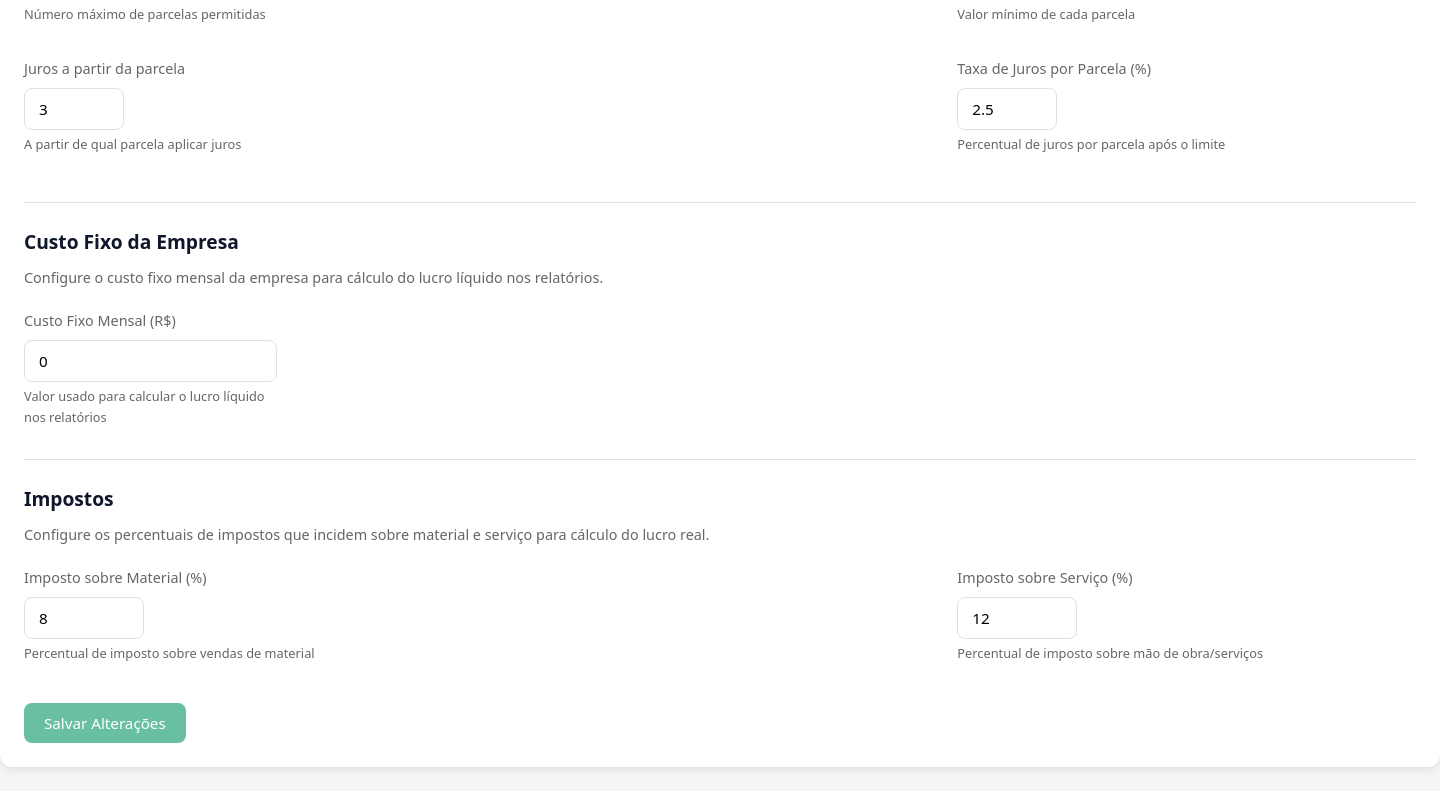
EmpresaTab › Configurações de Impostos › deve restaurar valores de impostos ao cancelar
The image size is (1440, 791).
(page scrolled)
Replace the text in the number field below "Imposto sobre Material (%)" with "20" at (84, 618), box [24, 597, 144, 639]
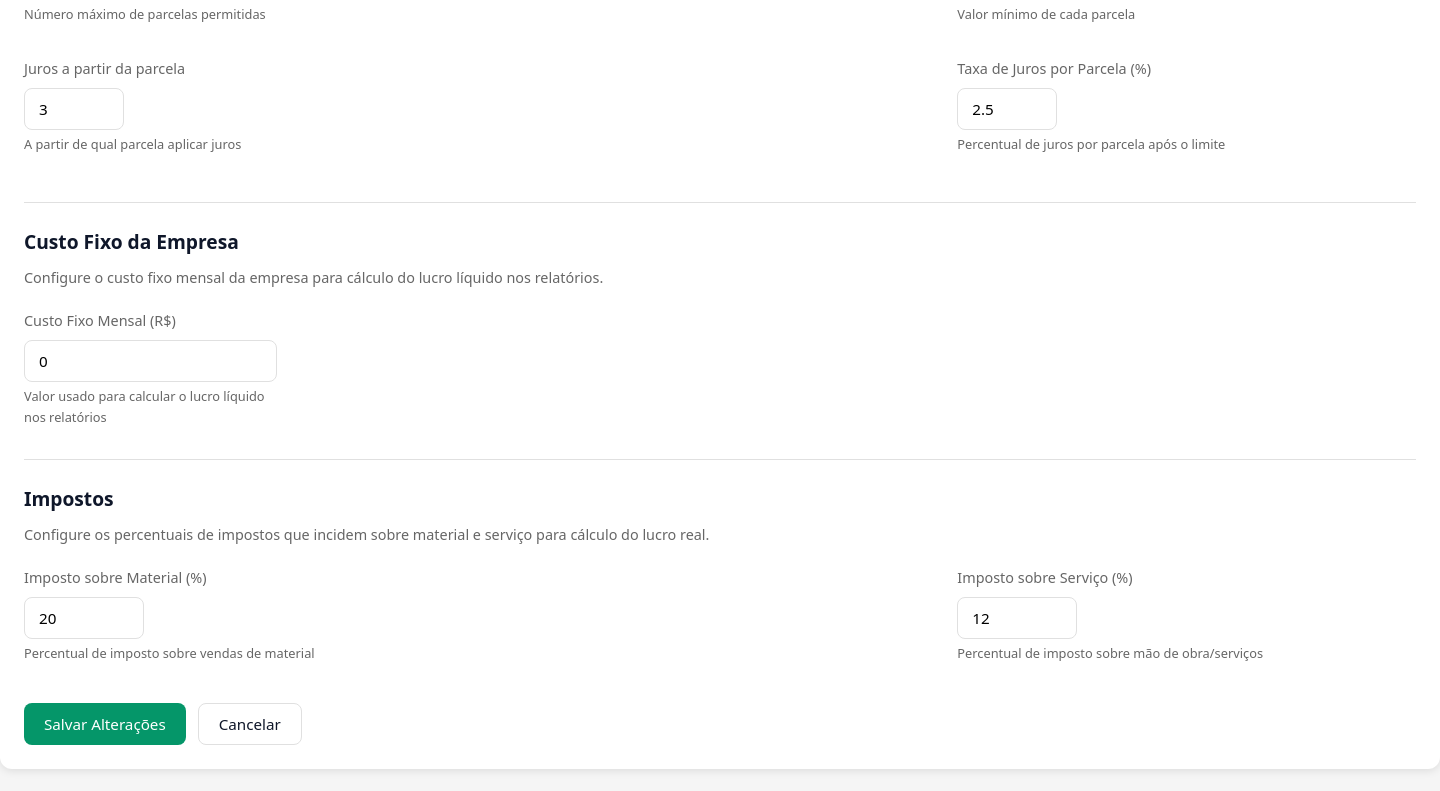
Click the button "Cancelar".
click(250, 724)  # box [198, 703, 302, 745]
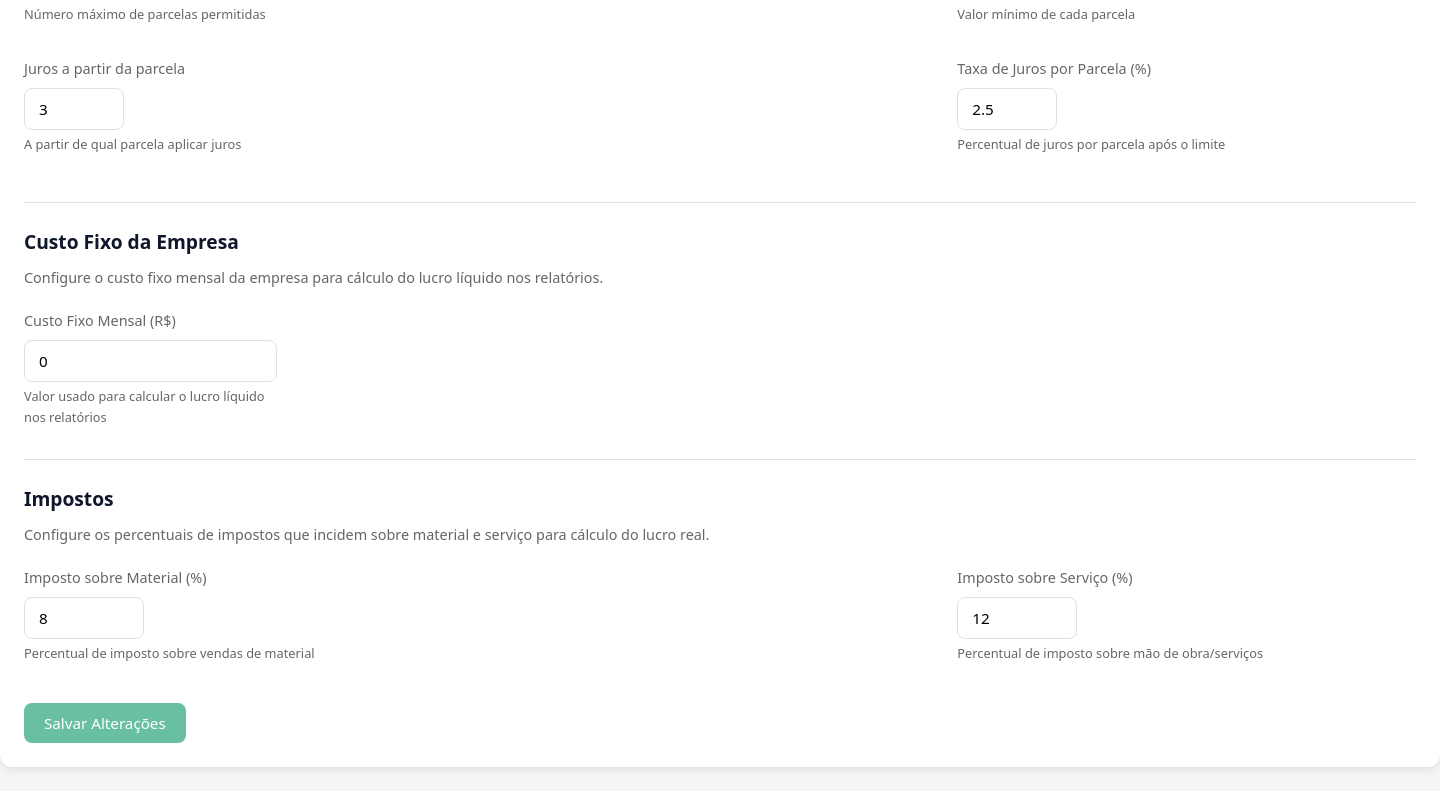
Expected: the number field showing "8" below "Imposto sobre Material (%)" is shown, [24, 597, 144, 639]
